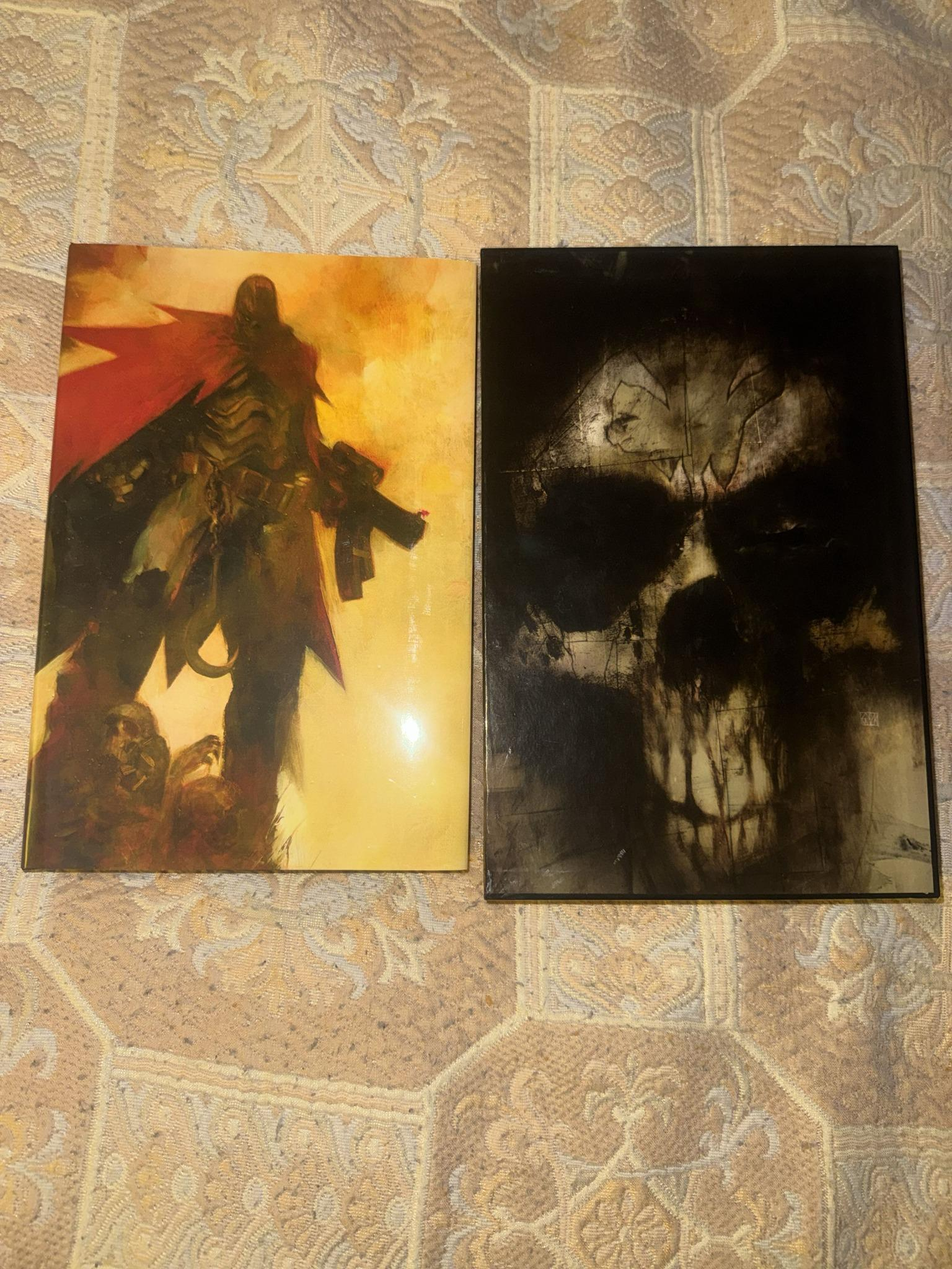comic: (480, 246, 937, 900), (24, 245, 480, 877)
